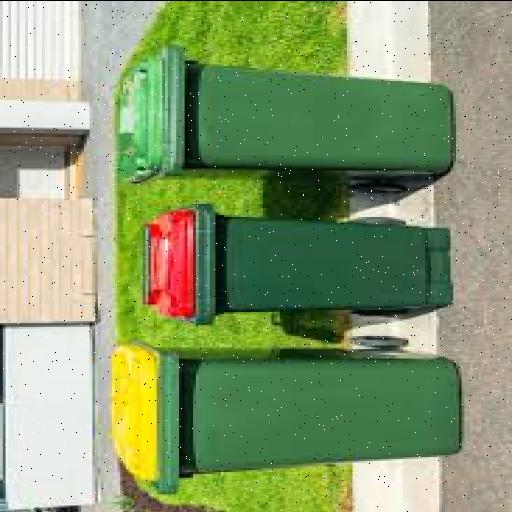poubelle_vide: (104, 322, 474, 500), (100, 39, 458, 187), (97, 196, 477, 318)
